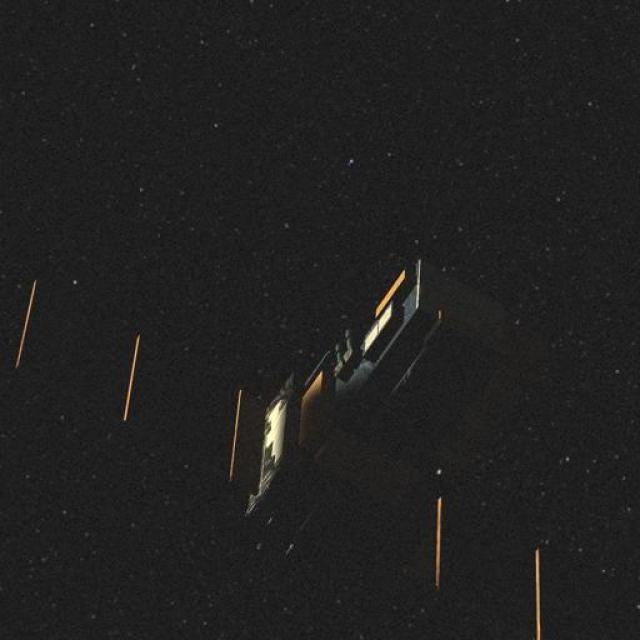soho: (201, 232, 551, 593)
